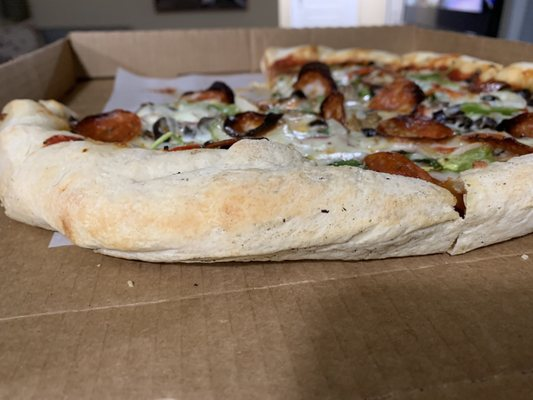sandwich: (2, 45, 533, 264)
